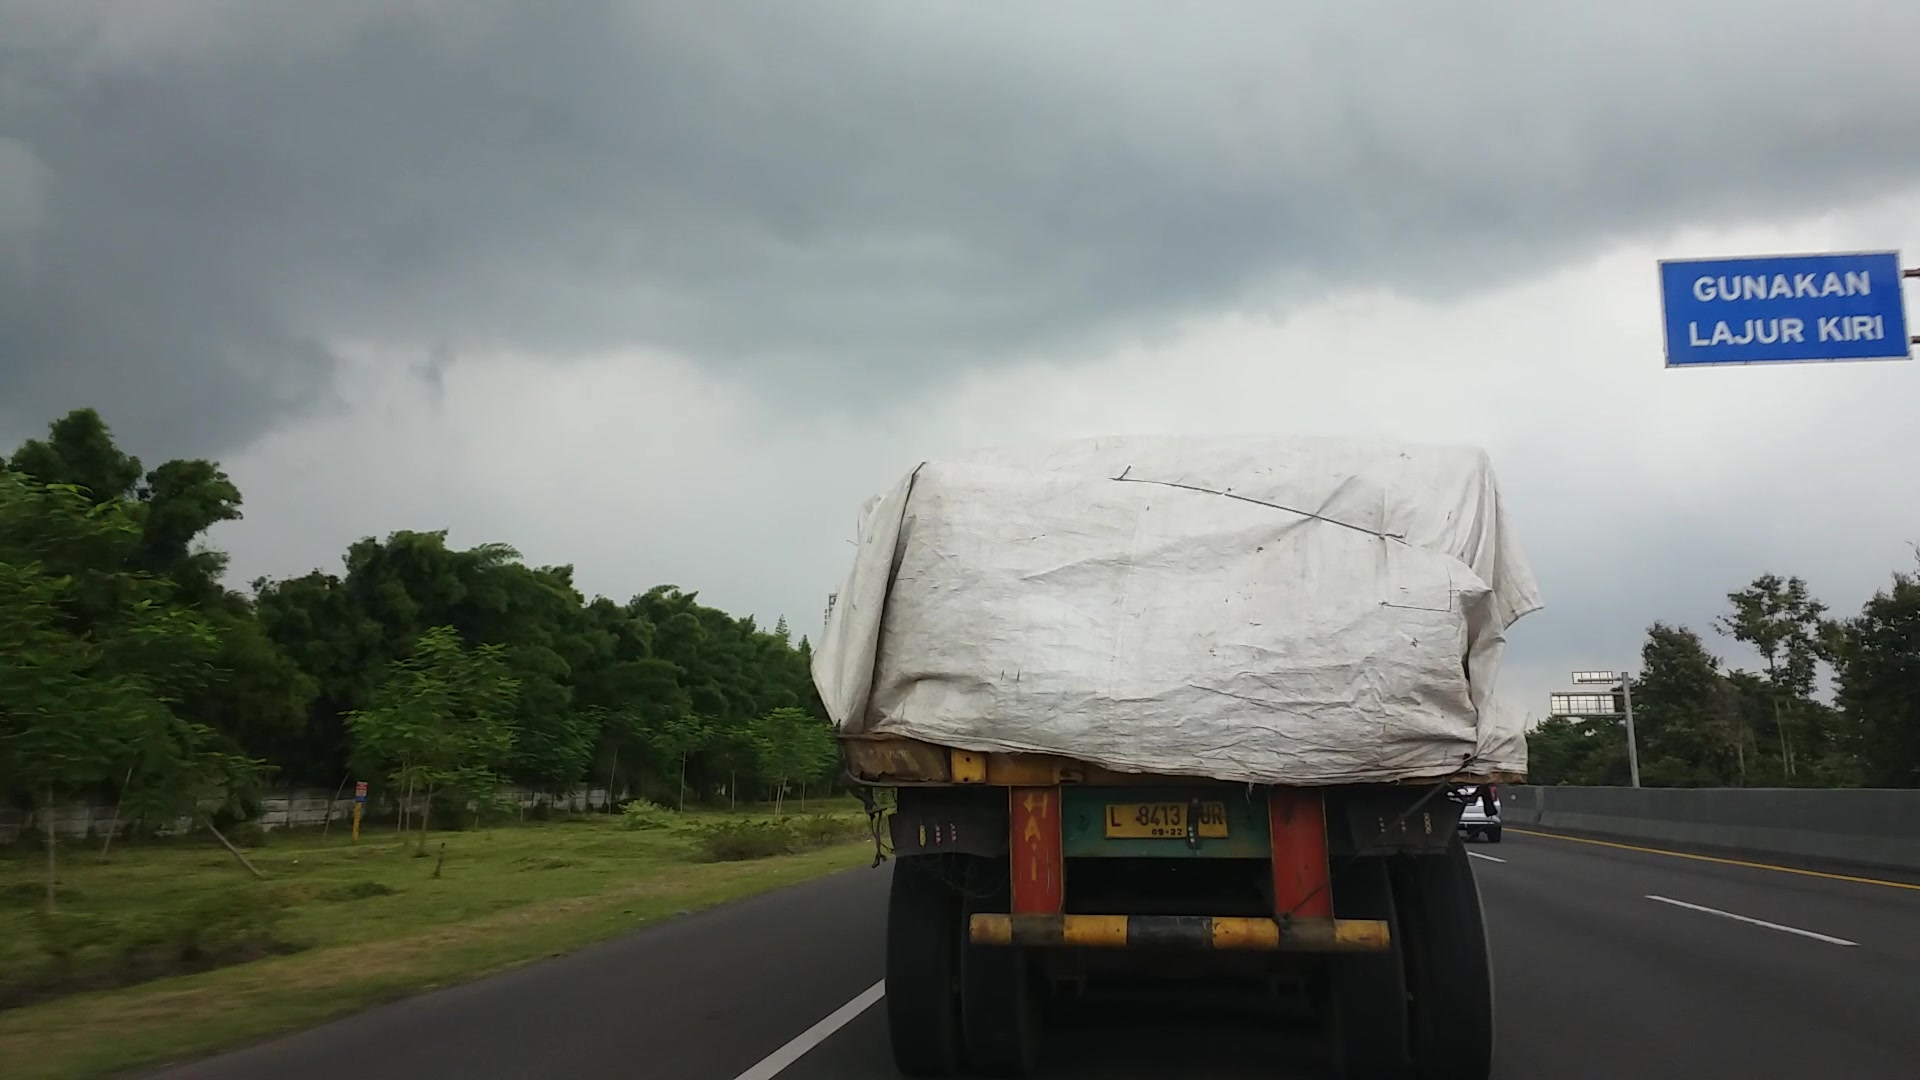plate_positive: (1104, 800, 1226, 840)
